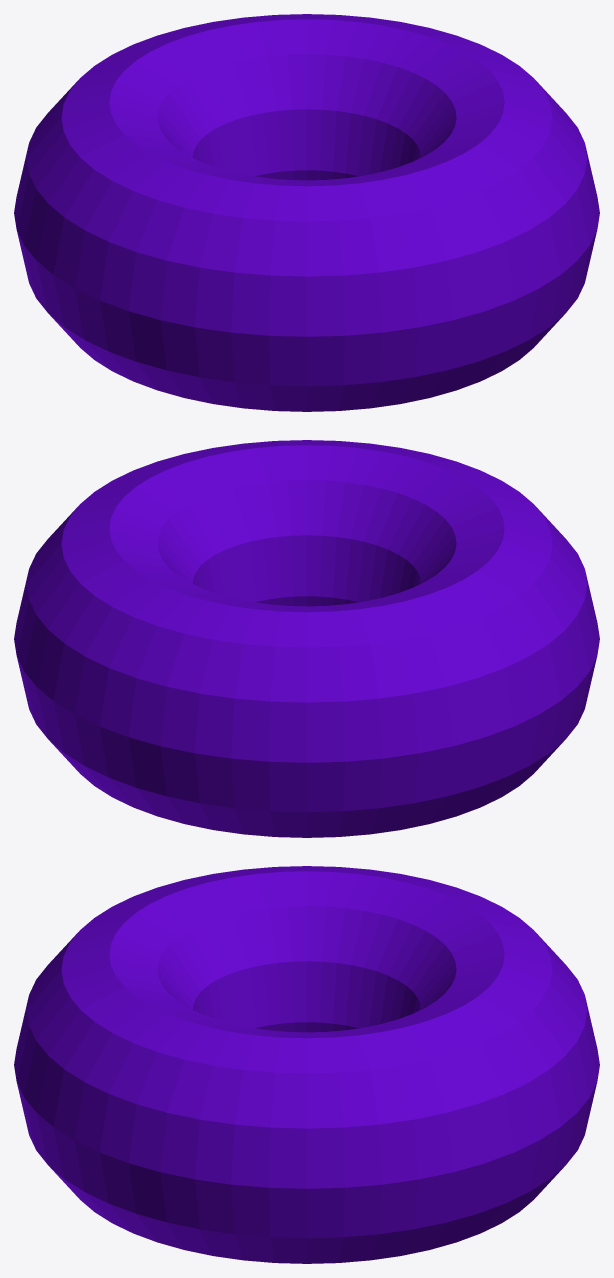
3 views of the same model, one above another, from view 1: azimuth 30°, elevation 25°; view 2: azimuth 150°, elevation 25°; view 3: azimuth 270°, elevation 25° (orthographic).
Parts seen in each view (by area): view 1: Back_wheel_R_000; view 2: Back_wheel_R_000; view 3: Back_wheel_R_000.
Boxes of the visible parts, bbox=[...] form: Back_wheel_R_000: bbox=[14, 14, 599, 411]; Back_wheel_R_000: bbox=[14, 440, 599, 837]; Back_wheel_R_000: bbox=[14, 866, 599, 1263].
Bounding box in the file's own units: 1.58 × 1.58 × 0.6572.
